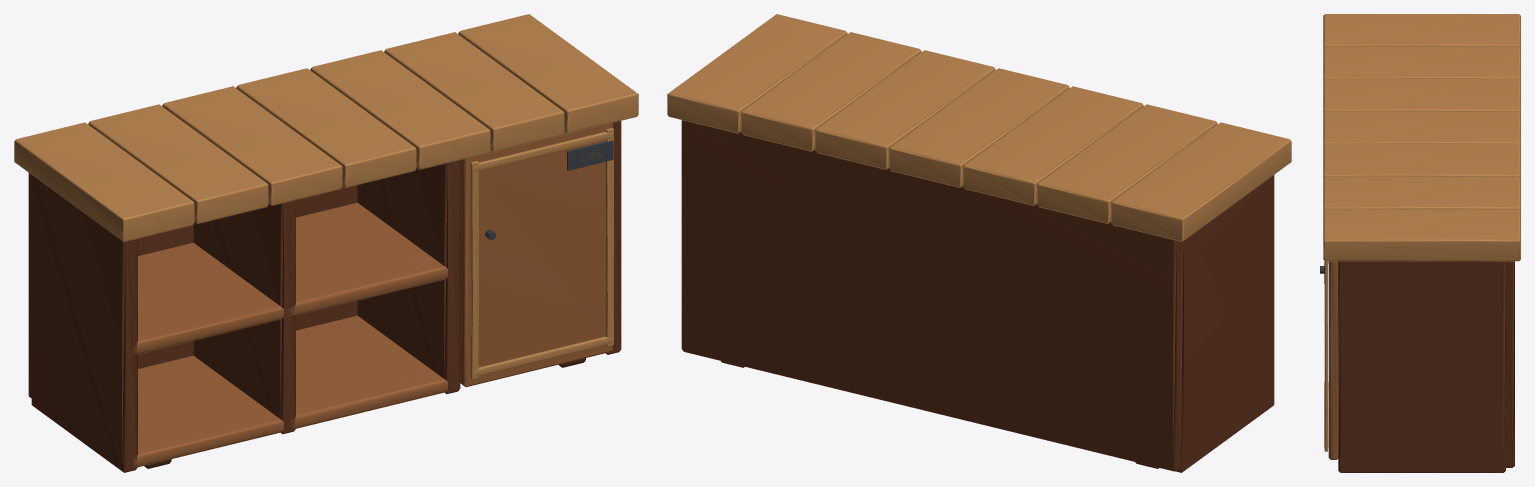
File: work_counter.fbx
The picture shows the model from 3 angles, left to right: view 1: azimuth 30°, elevation 25°; view 2: azimuth 150°, elevation 25°; view 3: azimuth 270°, elevation 25°; orthographic projection. The views are drawn at different scales.
Parts seen in each view (by area): view 1: work_counter; view 2: work_counter; view 3: work_counter.
Part boxes in pixels (bbox=[...]): work_counter: bbox=[14, 14, 638, 472]; work_counter: bbox=[667, 14, 1291, 472]; work_counter: bbox=[1320, 14, 1520, 472].
Size of the model in its own units: 180 by 90 by 67.1.
